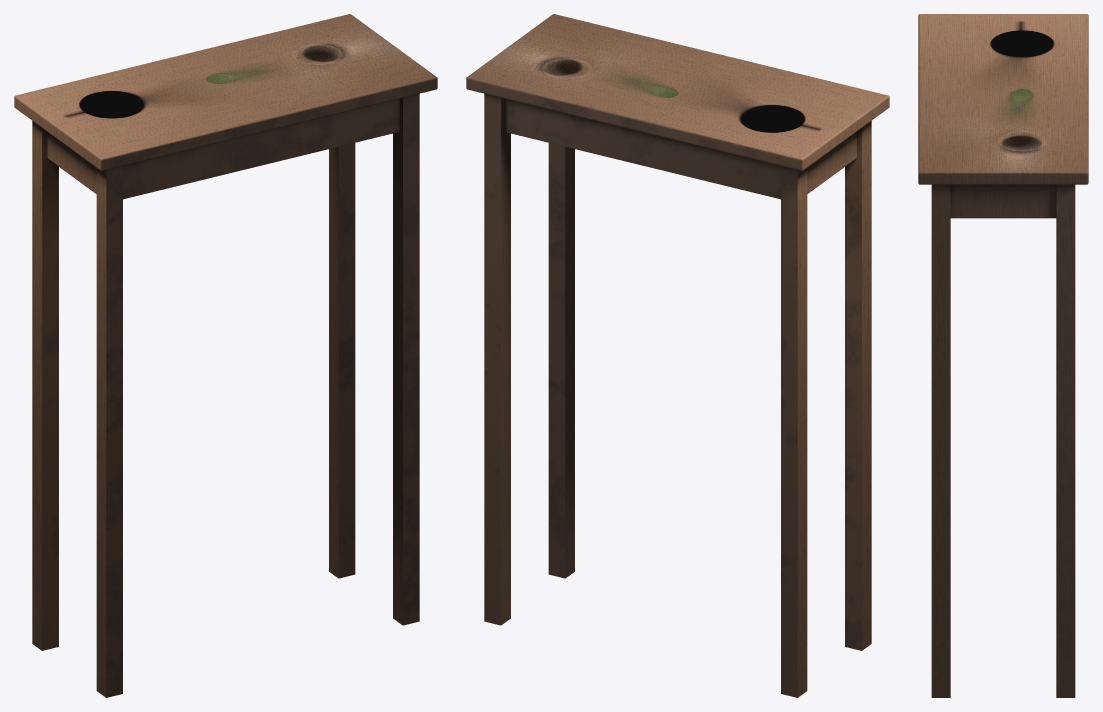
The model's file is 406_hook.glb.
3 renders of one model, left to right at view 1: azimuth 30°, elevation 25°; view 2: azimuth 150°, elevation 25°; view 3: azimuth 270°, elevation 25°, orthographic. The views are drawn at different scales.
Visible parts, largest first — view 1: Table; view 2: Table; view 3: Table.
Part boxes in pixels (x1,y1,x2,y2): Table: [14, 14, 437, 697]; Table: [466, 14, 889, 697]; Table: [918, 14, 1088, 697].
Size of what is drawn, in the model's own units: 2 by 3.1 by 0.9.
1 material, 1 textured.
